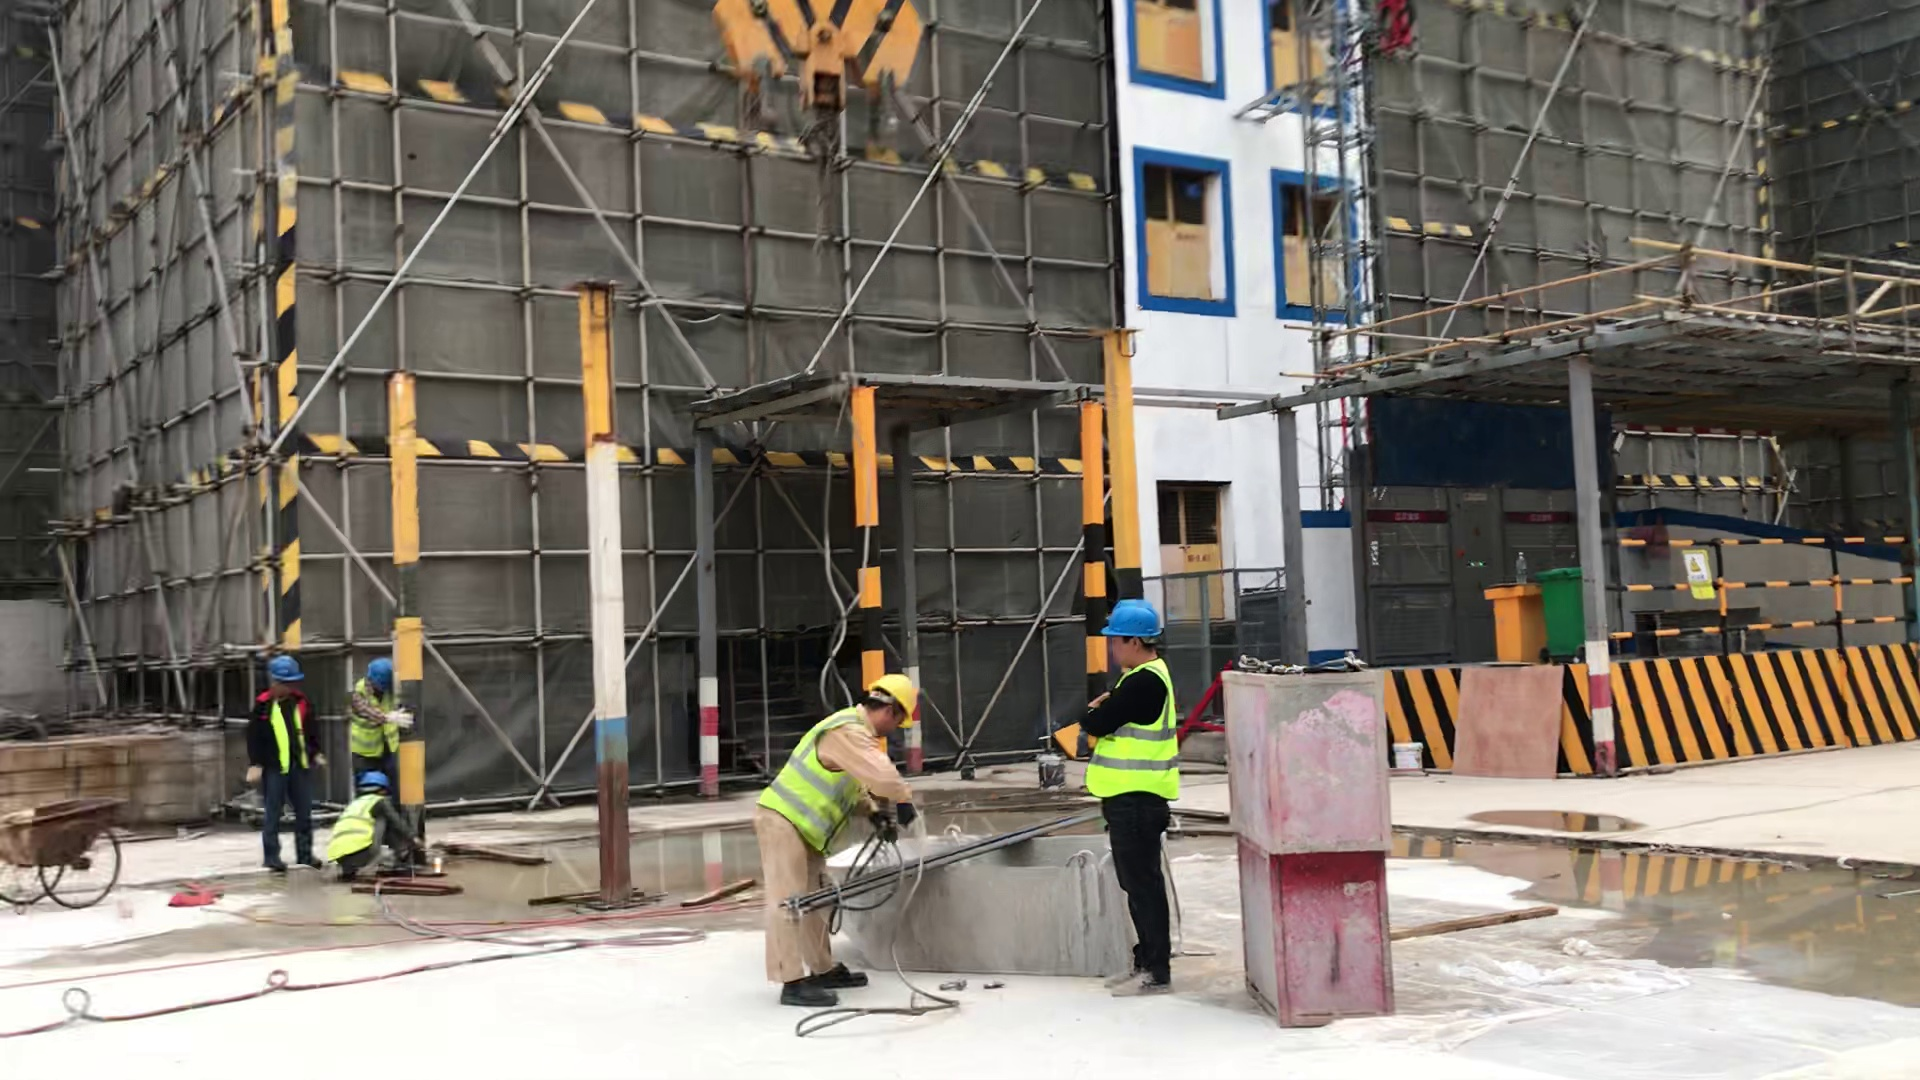board: (1450, 663, 1569, 783)
brick: (3, 711, 257, 842)
handcart: (8, 786, 122, 918)
helmet: (1102, 593, 1161, 642), (867, 674, 916, 717), (264, 653, 308, 686), (360, 652, 394, 688), (359, 769, 393, 792)
hook: (703, 12, 935, 168)
person: (749, 668, 921, 1015), (1082, 594, 1192, 1003), (248, 653, 328, 882), (335, 766, 430, 891), (353, 654, 412, 780)
vest: (756, 698, 872, 850), (1088, 656, 1183, 803), (332, 792, 384, 880)
